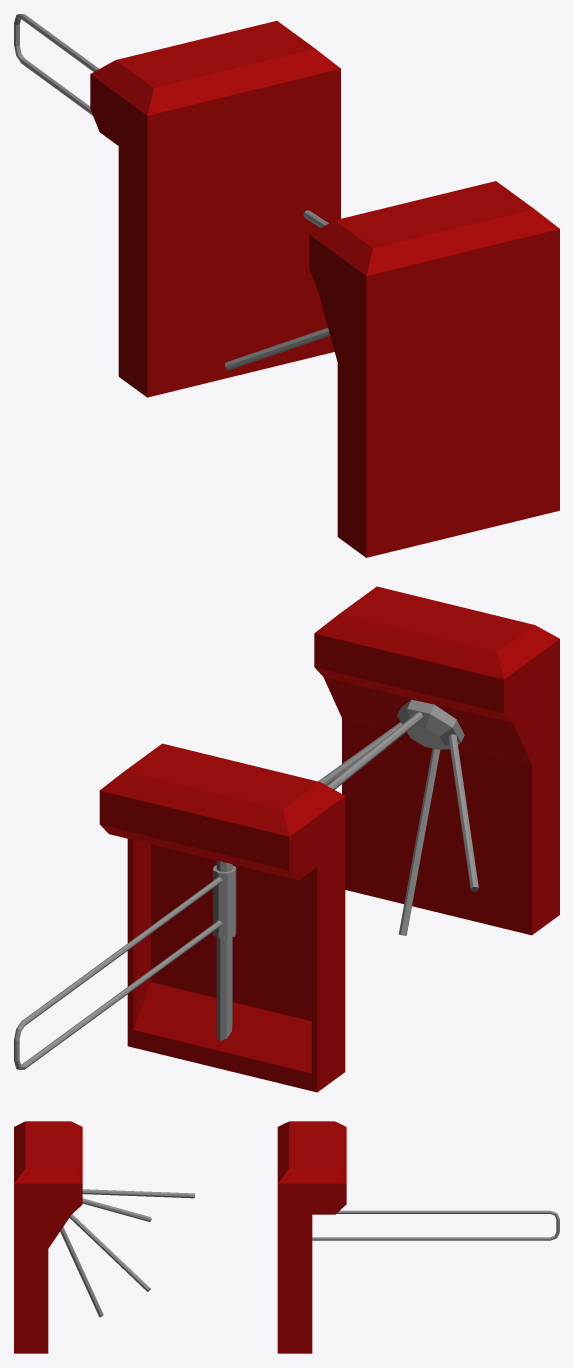
Rendered from Torniquete_Final.fbx.
3 views of the same model, one above another, from view 1: azimuth 30°, elevation 25°; view 2: azimuth 150°, elevation 25°; view 3: azimuth 270°, elevation 25° (orthographic). The views are drawn at different scales.
Parts seen in each view (by area): view 1: Box002, Box001, Cylinder002, Cylinder004; view 2: Box001, Box002, Cylinder002, Cylinder004; view 3: Box002, Box001, Cylinder004, Cylinder002.
Part boxes in pixels (x1=…): Box002: x1=309, y1=181, x2=559, y2=557; Box001: x1=90, y1=21, x2=340, y2=397; Cylinder002: x1=14, y1=14, x2=98, y2=115; Cylinder004: x1=225, y1=210, x2=330, y2=370; Box001: x1=99, y1=743, x2=345, y2=1092; Box002: x1=314, y1=586, x2=559, y2=935; Cylinder002: x1=14, y1=860, x2=236, y2=1069; Cylinder004: x1=318, y1=699, x2=478, y2=935; Box002: x1=14, y1=1121, x2=82, y2=1353; Box001: x1=277, y1=1121, x2=346, y2=1353; Cylinder004: x1=60, y1=1189, x2=194, y2=1317; Cylinder002: x1=312, y1=1210, x2=559, y2=1240.
Bounding box in the file's own units: 333 × 397 × 1093.
